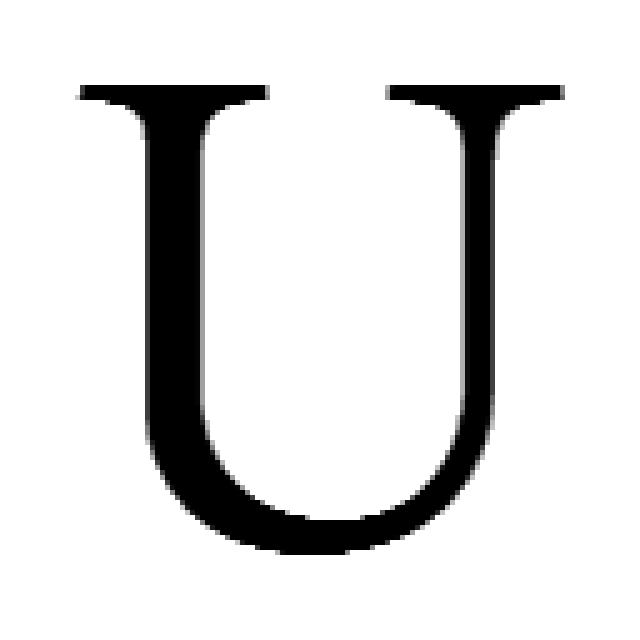U: (70, 70, 565, 555)
